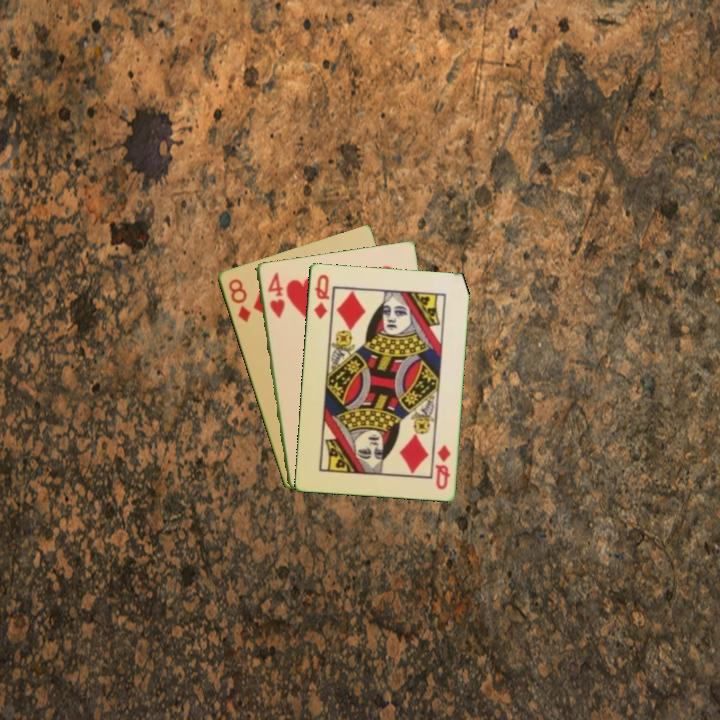4h: (264, 268, 287, 320)
8d: (224, 275, 253, 325)
Qd: (310, 271, 332, 322), (431, 441, 453, 492)
